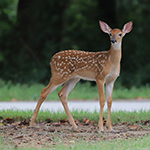deer: (95, 19, 134, 58)
